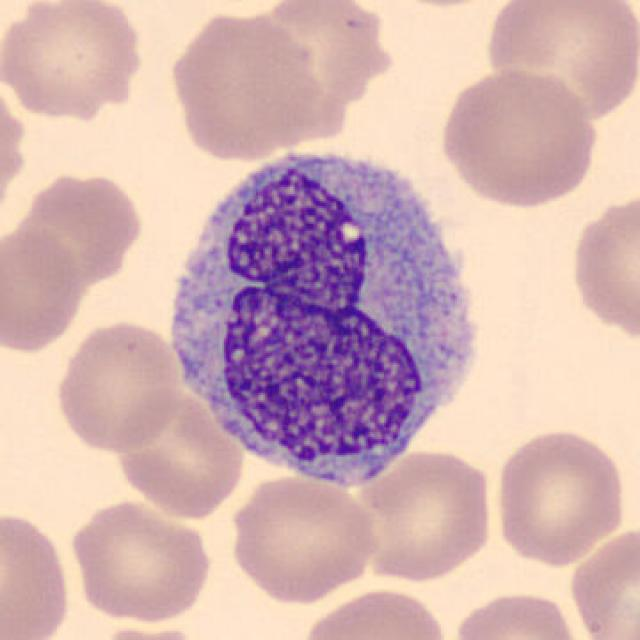Monocyte: (155, 130, 498, 500)
RBC: (164, 7, 326, 164), (436, 65, 602, 210), (224, 471, 382, 606), (348, 446, 498, 585), (491, 423, 629, 568), (482, 0, 640, 125), (258, 0, 398, 141), (107, 382, 247, 522), (66, 497, 215, 624), (52, 317, 183, 455), (0, 0, 148, 122), (25, 170, 142, 293), (565, 185, 640, 349), (0, 219, 89, 356), (0, 506, 75, 640), (296, 583, 451, 640), (565, 523, 638, 640), (448, 587, 587, 640), (85, 620, 211, 640)
